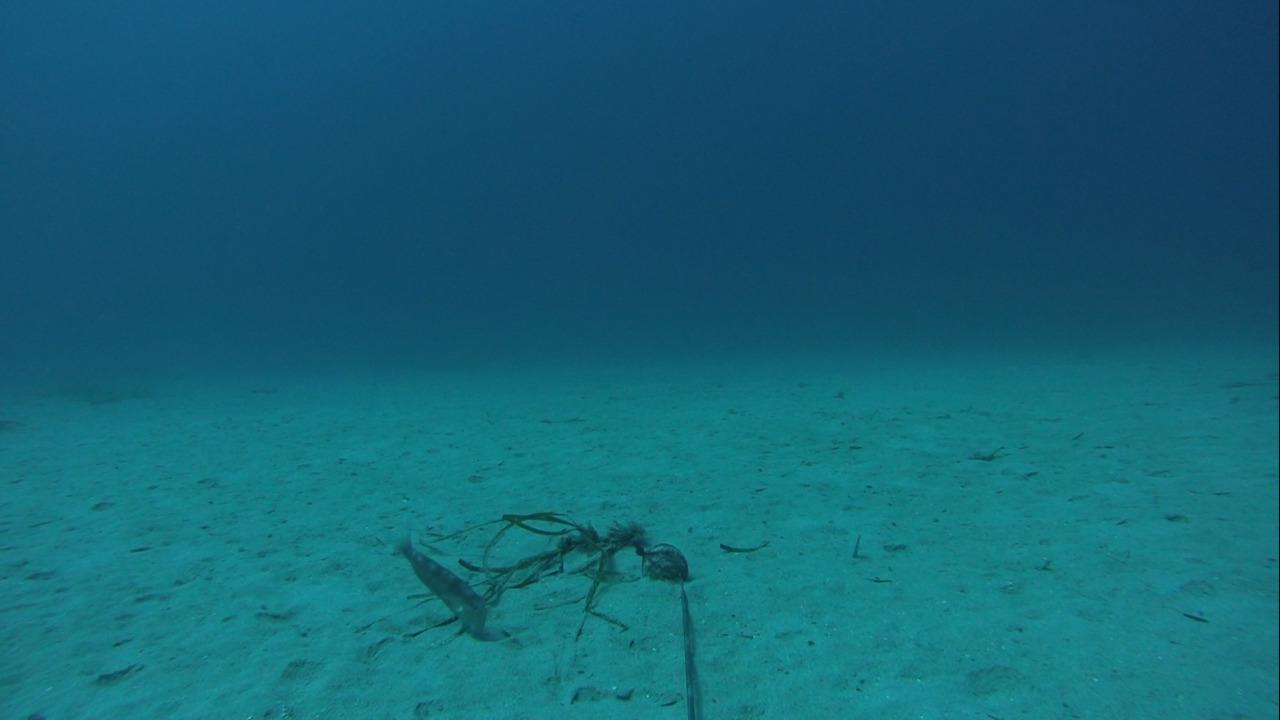raor: (389, 525, 494, 640)
